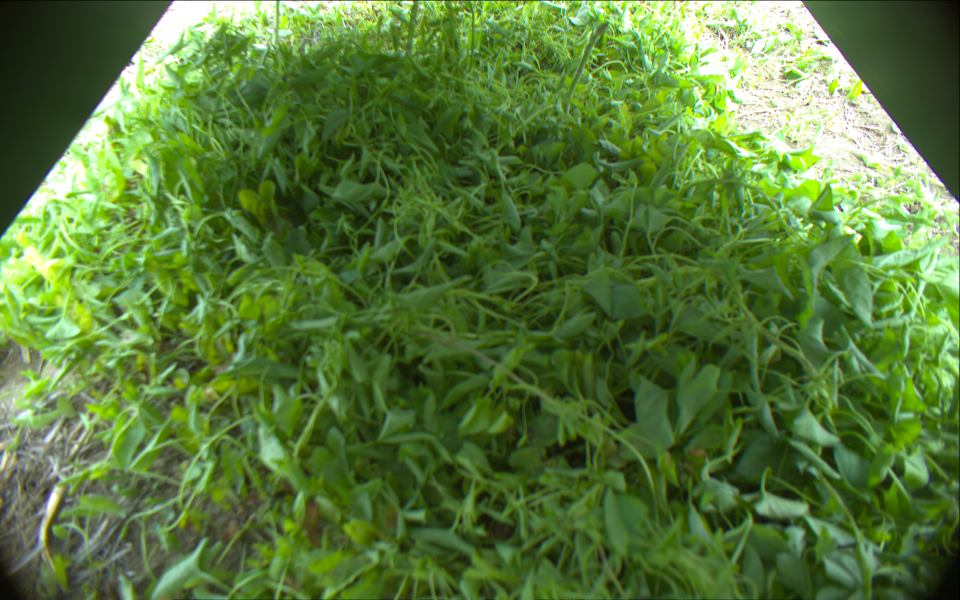aspa: (562, 21, 609, 117), (406, 1, 418, 57), (271, 1, 280, 47)
